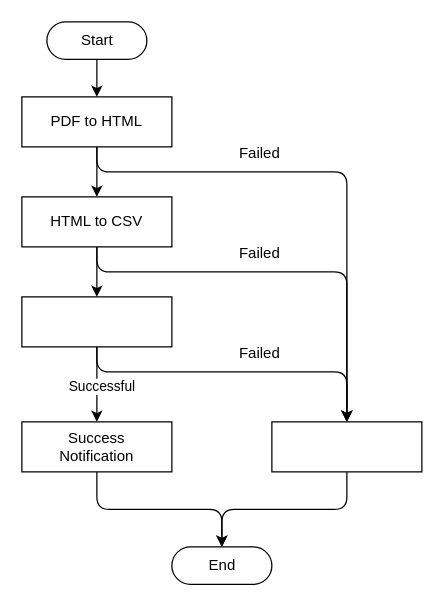
Some shapes in this 444 by 606 pixel diagram are drawn without their labels. The shapes that lost their labels are listed below. From the top down, each one's centre as x and y in pixels, then its label:
At point (96, 321): "CSV Validation".
At point (346, 446): "Error Notification".
